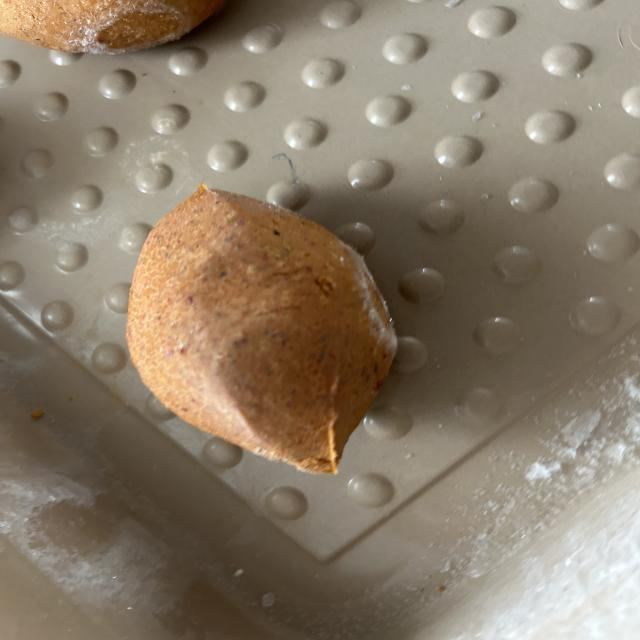kobi: (124, 183, 399, 475)
